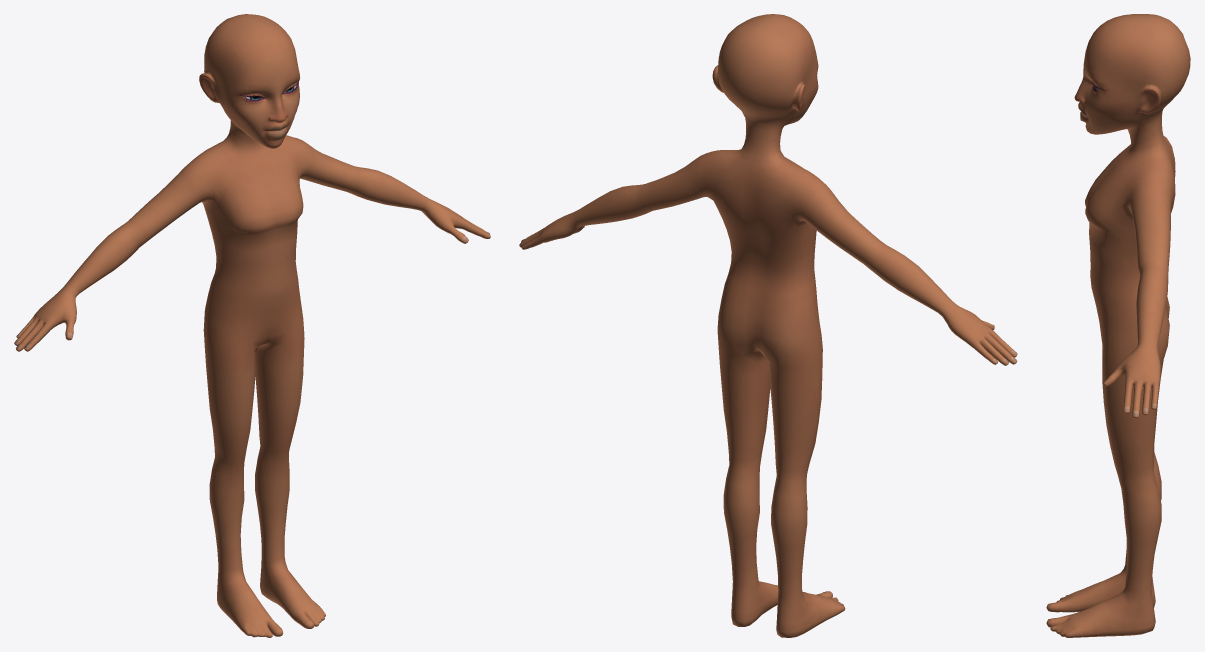
Rendered from frame_0082.glb.
3 renders of one model, left to right at view 1: azimuth 30°, elevation 25°; view 2: azimuth 150°, elevation 25°; view 3: azimuth 270°, elevation 25°, orthographic. The views are drawn at different scales.
Parts seen in each view (by area): view 1: frame_0082_head_geo; view 2: frame_0082_head_geo; view 3: frame_0082_head_geo.
Part boxes in pixels (x1=…): frame_0082_head_geo: x1=14, y1=14, x2=490, y2=637; frame_0082_head_geo: x1=519, y1=14, x2=1017, y2=637; frame_0082_head_geo: x1=1046, y1=14, x2=1190, y2=637.
Size of the model in its own units: 1.28 by 1.5 by 0.3253.
3 materials, 3 textured.
